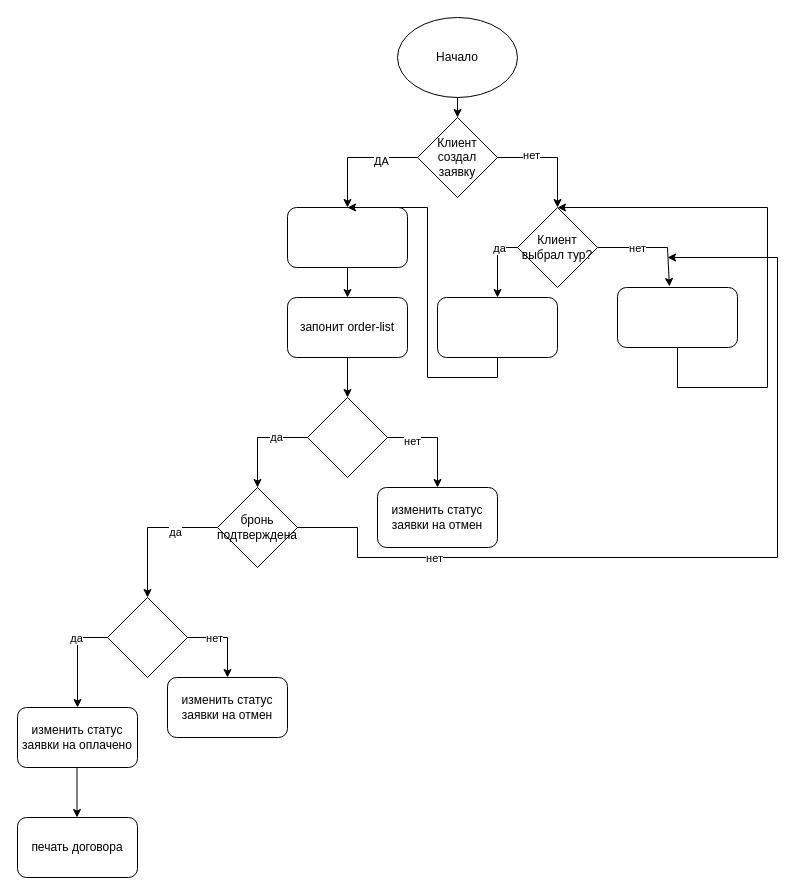
Some shapes in this 803 by 895 pixel diagram are drawn without their labels. The box of each missing label's shape, as (x1, y1, x2, y2) in pixels:
Внести данные о клиенте: (286, 206, 408, 268)
оплата получена полностью: (106, 596, 188, 678)
подобрать тур: (616, 286, 738, 348)
Предоплата получена: (306, 396, 388, 478)
создать заявку: (436, 296, 558, 358)
